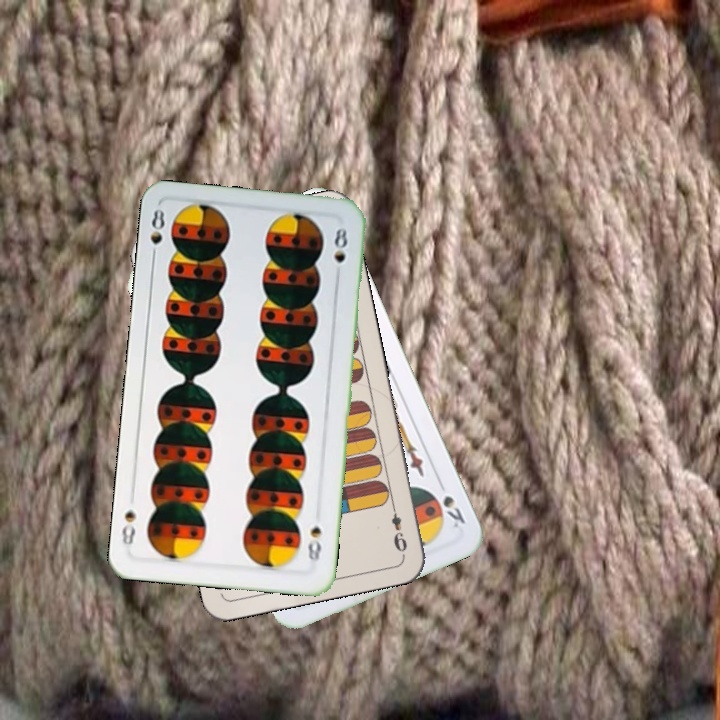E9: (387, 499, 410, 555)
S8: (145, 204, 167, 264), (304, 521, 324, 570)
SK: (434, 476, 468, 531)
